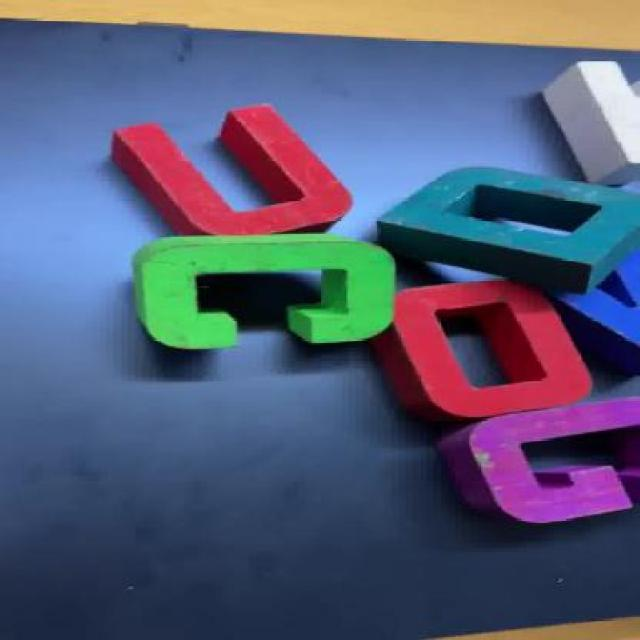C: (119, 231, 430, 349)
D: (388, 166, 640, 272)
G: (446, 398, 640, 534)
O: (378, 276, 580, 426)
U: (92, 102, 372, 236)
